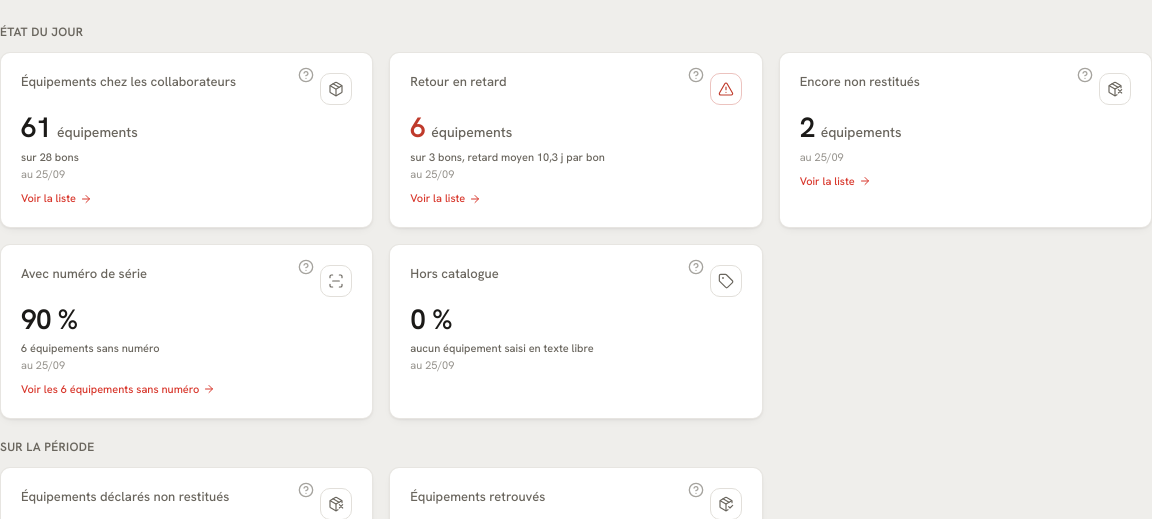
Test case: ParcTab › les flux d’équipements (journal) n’ont pas de lien et disent pourquoi sous « ? »
Step 1. Click the button named "Définition : Équipements retrouvés" → x=696, y=490, box [674,468,718,512]
(page scrolled)
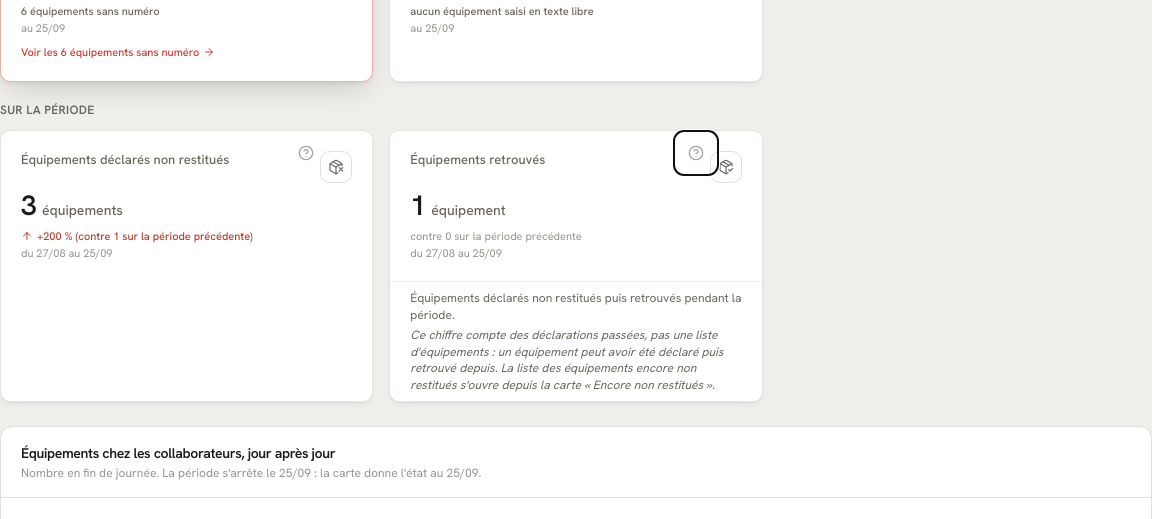
Now the text "compte des déclarations passées" is shown, box [410,327,724,393]
